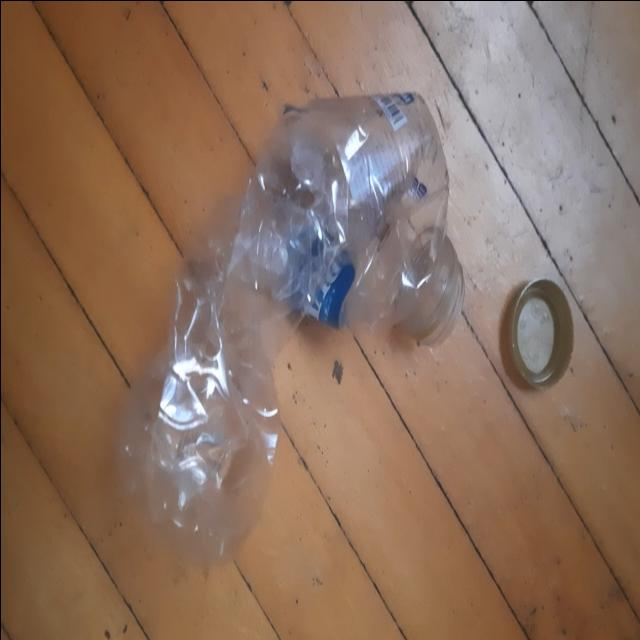Plastic: (120, 91, 452, 568)
